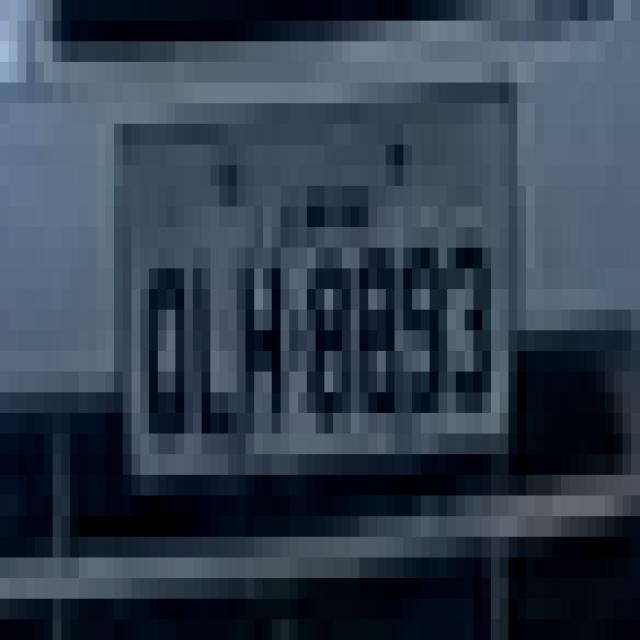Placa_mercosul_carro: (129, 124, 501, 458)
